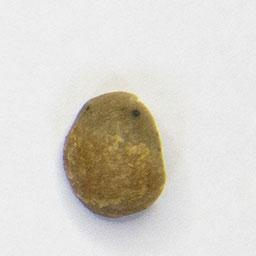defect: (60, 88, 170, 221)
